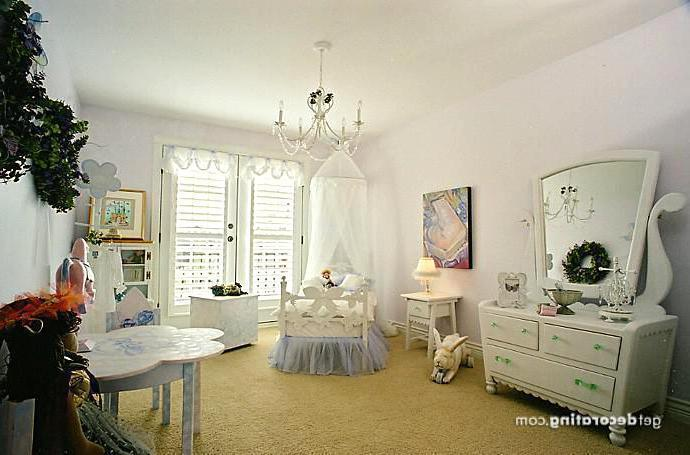Armario: (485, 314, 628, 410)
Otro Obstaculo: (4, 306, 136, 444), (425, 329, 475, 388)
Puerta: (166, 167, 296, 322)
